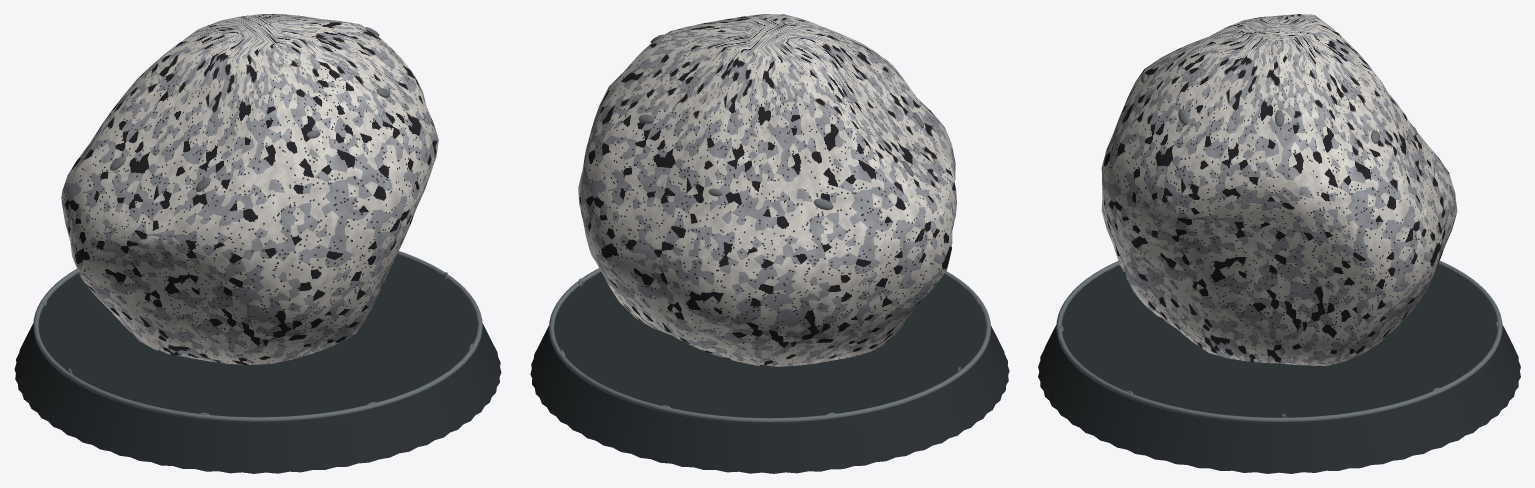
The picture shows the model from 3 angles, left to right: view 1: azimuth 30°, elevation 25°; view 2: azimuth 150°, elevation 25°; view 3: azimuth 270°, elevation 25°; orthographic projection.
Parts seen in each view (by area): view 1: surface specimen, neutral specimen stand, specimen edge, turned rim; view 2: surface specimen, neutral specimen stand, specimen edge, turned rim; view 3: surface specimen, neutral specimen stand, specimen edge.
Part boxes in pixels (x1,y1,x2,y2): surface specimen: (61,14,438,364); neutral specimen stand: (14,254,501,473); specimen edge: (33,251,482,422); turned rim: (110,27,390,191); surface specimen: (578,14,956,366); neutral specimen stand: (530,271,1009,473); specimen edge: (549,268,990,423); turned rim: (638,34,923,210); surface specimen: (1101,14,1457,365); neutral specimen stand: (1038,264,1520,473); specimen edge: (1056,261,1502,422).
Bounding box in the file's own units: 0.539 × 0.421 × 0.539.
4 materials, 1 textured.
